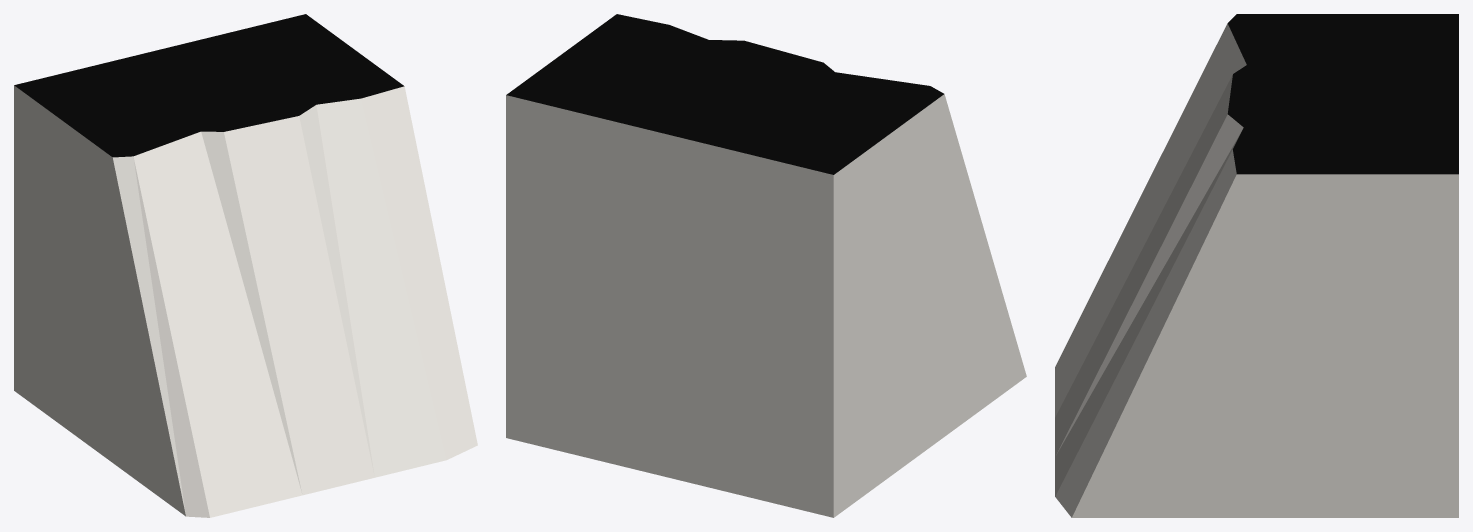
Rendered from Model_Frost_Slope_3SLTR_LRS_1.fbx.
3 views of the same model, side by side, from view 1: azimuth 30°, elevation 25°; view 2: azimuth 150°, elevation 25°; view 3: azimuth 270°, elevation 25° (orthographic). The views are drawn at different scales.
Parts seen in each view (by area): view 1: Model_Frost_Obstacle1; view 2: Model_Frost_Obstacle1; view 3: Model_Frost_Obstacle1.
Part boxes in pixels (x1,y1,x2,y2): Model_Frost_Obstacle1: (14,14,477,517); Model_Frost_Obstacle1: (506,14,1026,517); Model_Frost_Obstacle1: (1055,14,1458,517).
Size of the model in its own units: 200 by 200 by 213.
Materials: 2 (1 with a texture image).
